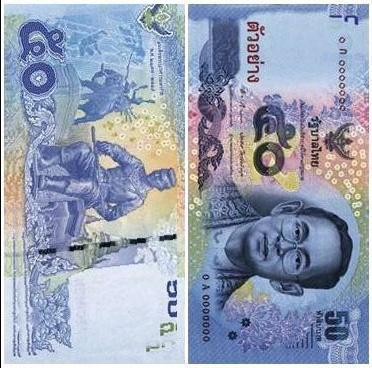50BahtTai: (5, 4, 178, 362)
